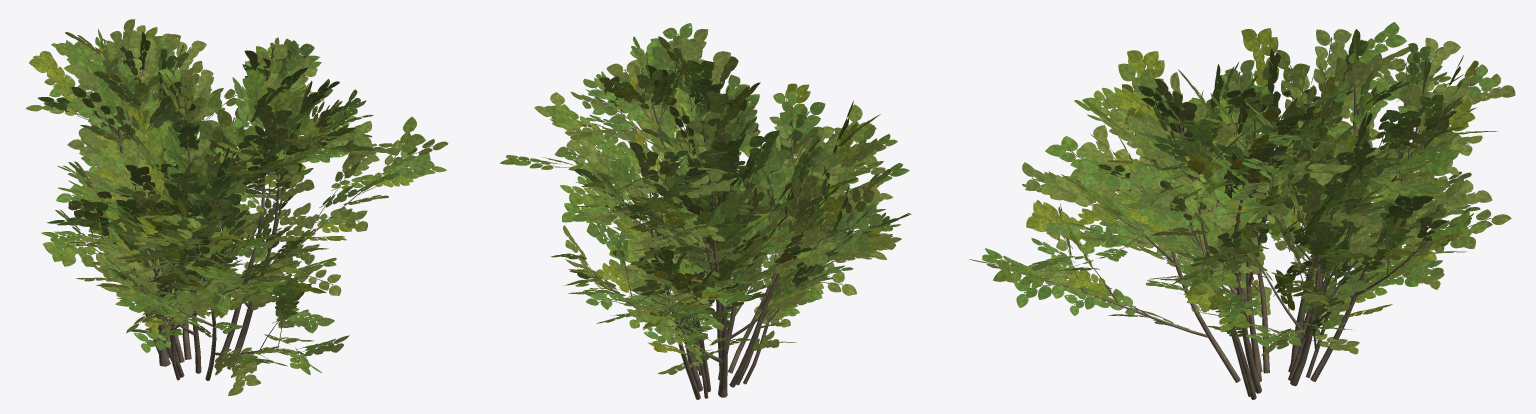
File: liska_1.glb
3 renders of one model, left to right at view 1: azimuth 30°, elevation 25°; view 2: azimuth 150°, elevation 25°; view 3: azimuth 270°, elevation 25°, orthographic. The views are drawn at different scales.
Parts seen in each view (by area): view 1: liska_1; view 2: liska_1; view 3: liska_1.
Part boxes in pixels (left/top/right/bottom): liska_1: left=25, top=19, right=448, bottom=395; liska_1: left=500, top=23, right=911, bottom=399; liska_1: left=969, top=22, right=1515, bottom=399.
Bounding box in the file's own units: 4.61 × 3.52 × 5.07.
Materials: 2 (2 with a texture image).
